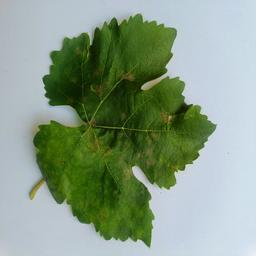Powdery-Mildew: (88, 136, 114, 164), (142, 144, 163, 168), (158, 110, 179, 128), (118, 68, 135, 84), (115, 163, 132, 179)
